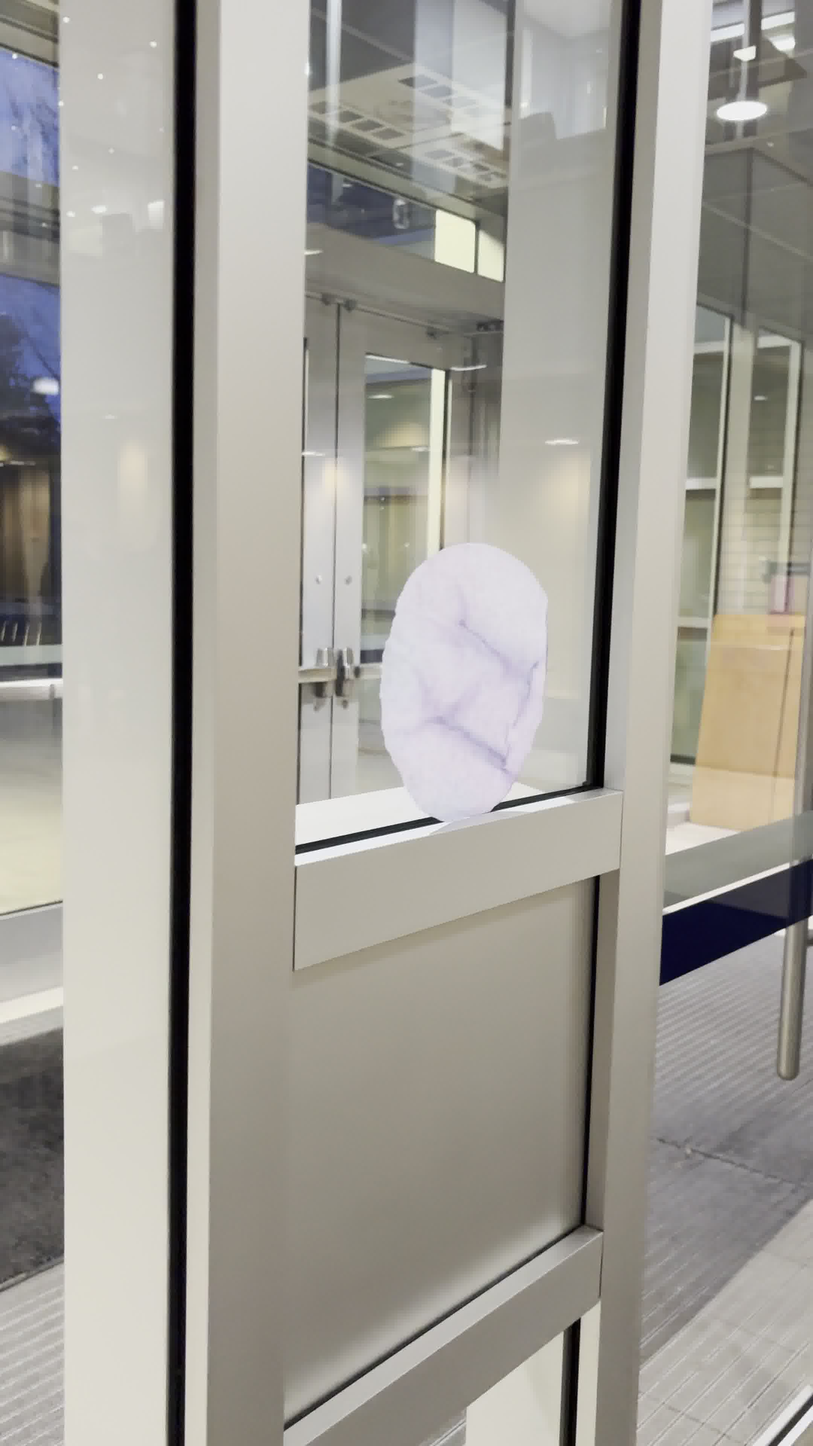Target: (378, 542, 547, 821)
